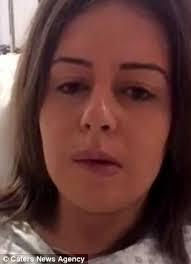strokeEyeWeak: (52, 70, 158, 108)
strokeMouthWeak: (67, 147, 127, 181)
